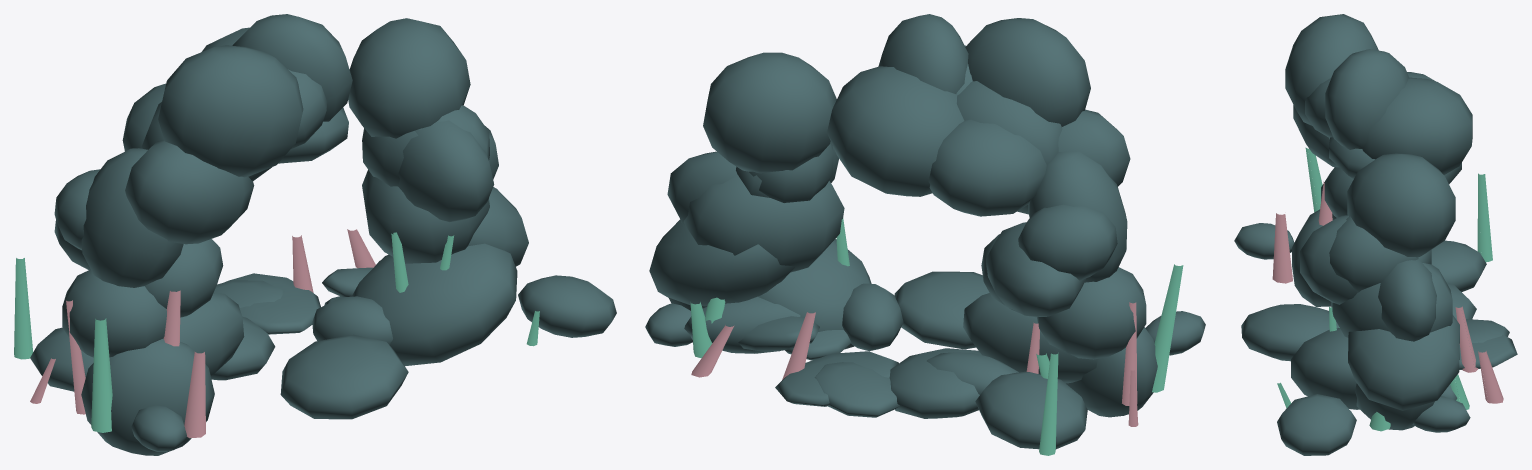
The model's file is arrecife_pasaje_grande.glb.
The picture shows the model from 3 angles, left to right: view 1: azimuth 30°, elevation 25°; view 2: azimuth 150°, elevation 25°; view 3: azimuth 270°, elevation 25°; orthographic projection. The views are drawn at different scales.
Visible parts, largest first — view 1: reef_passage_large; view 2: reef_passage_large; view 3: reef_passage_large.
Part boxes in pixels (bbox=[...]): reef_passage_large: bbox=[14, 14, 616, 455]; reef_passage_large: bbox=[645, 14, 1205, 455]; reef_passage_large: bbox=[1234, 14, 1517, 455].
Bounding box in the file's own units: 5.56 × 3.84 × 3.14.
